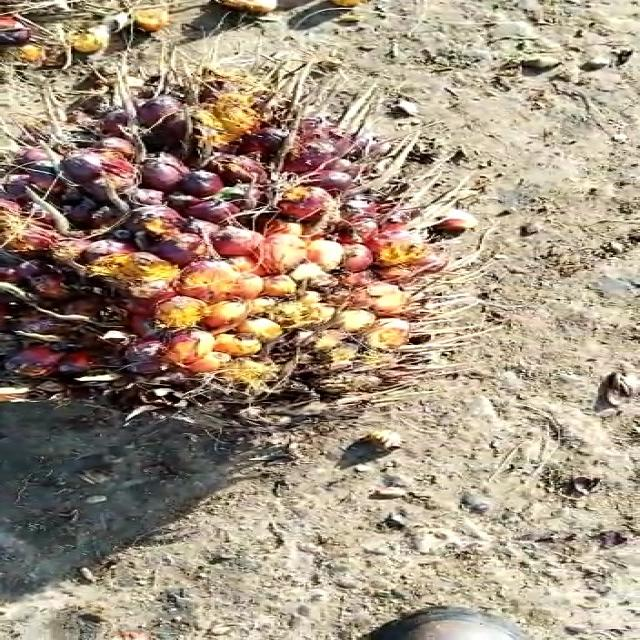palm oil: (0, 86, 493, 434)
